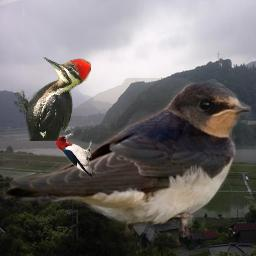Swallow: (3, 78, 251, 237)
Woodpecker: (14, 57, 91, 141), (55, 133, 92, 177)
